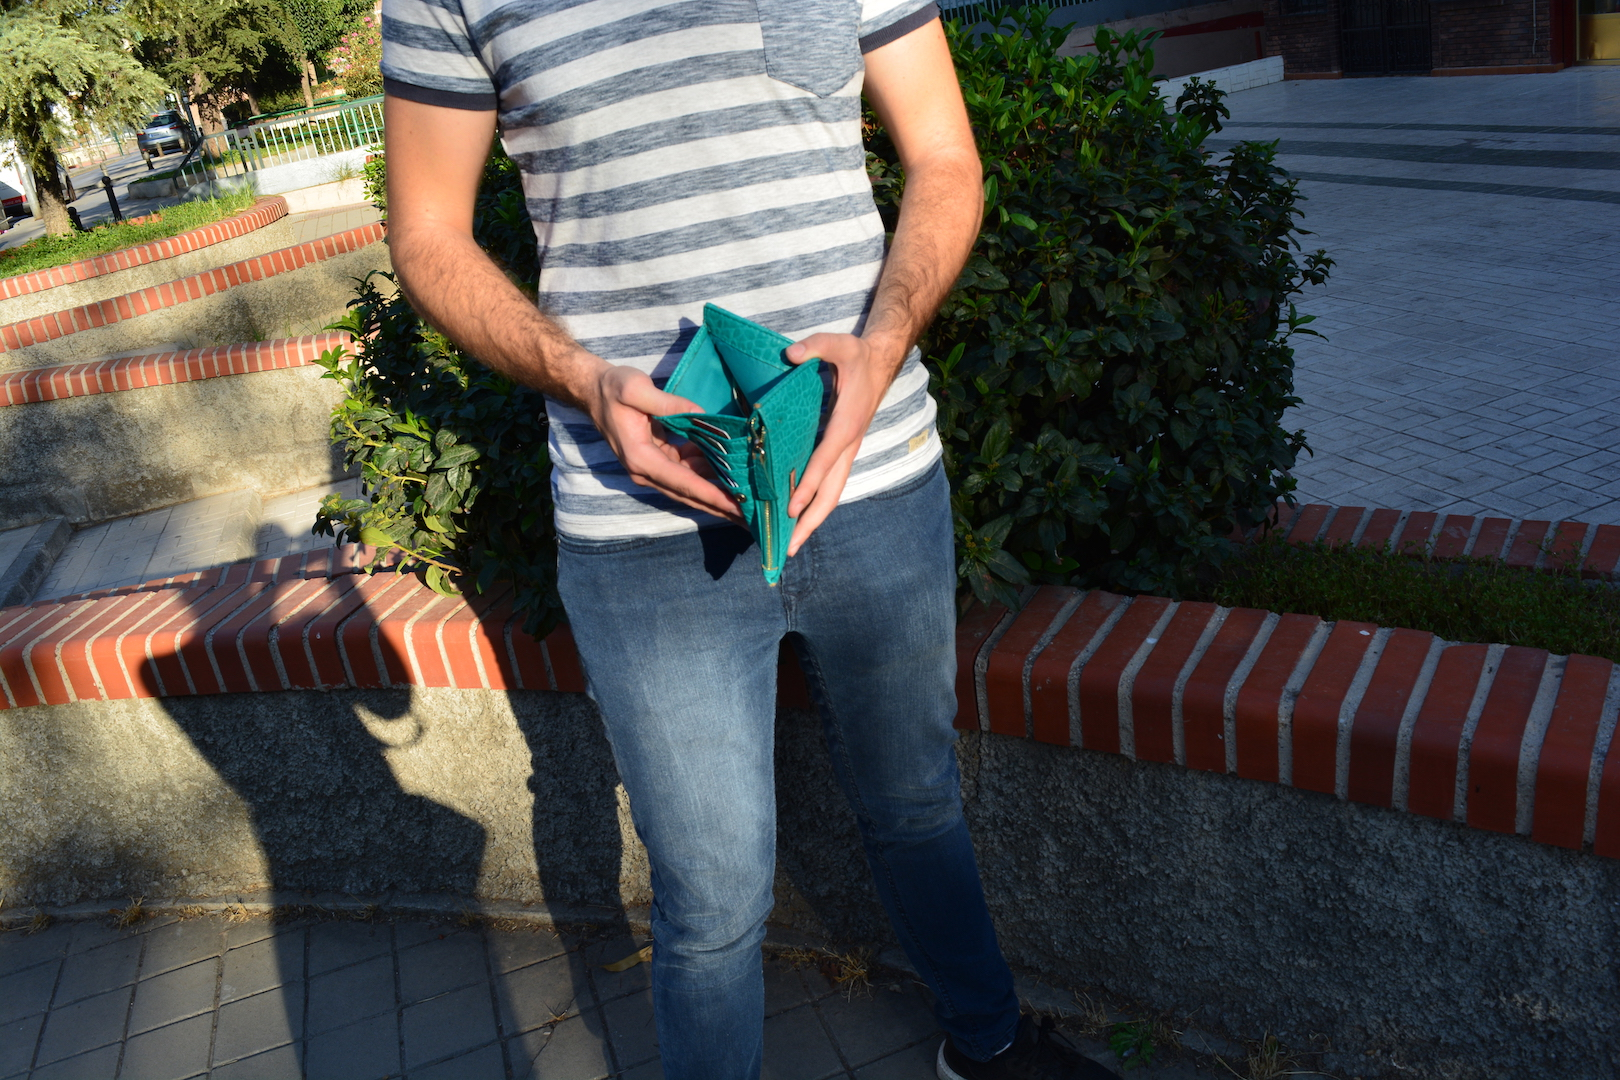monedero: (651, 301, 834, 589)
